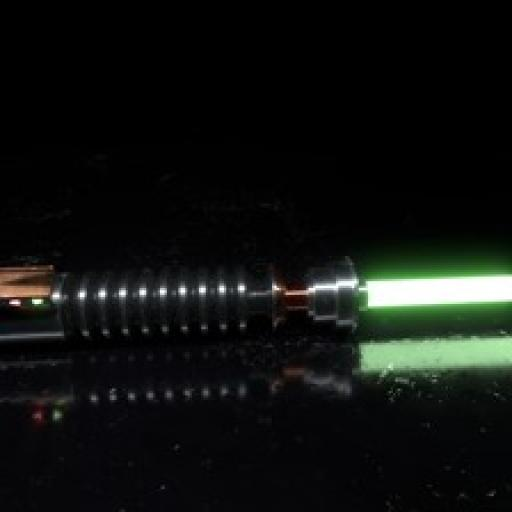lightsaber: (0, 261, 510, 346)
